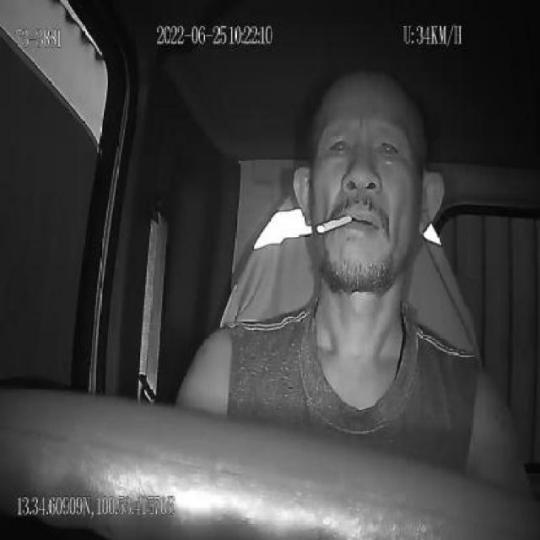smoking: (316, 214, 351, 236)
